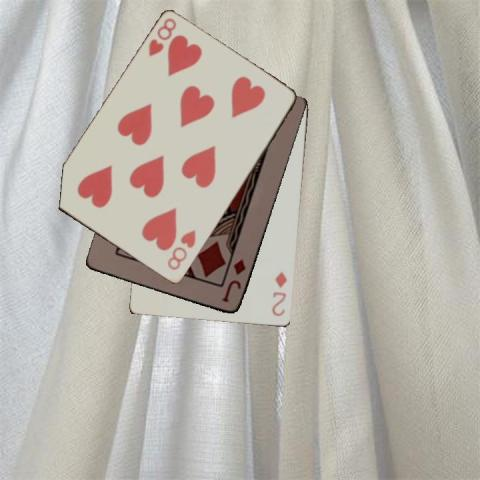2d: (269, 269, 289, 318)
8h: (164, 227, 197, 272), (145, 15, 178, 59)
Jd: (219, 257, 247, 304)
